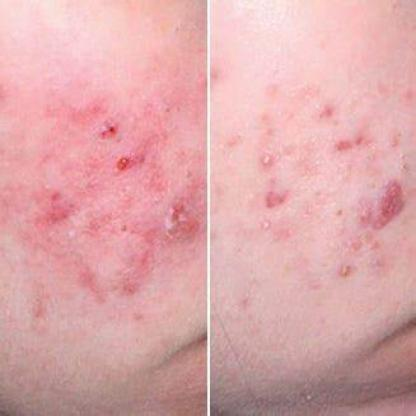Acne: (131, 166, 202, 240), (88, 107, 143, 188), (23, 188, 82, 232), (350, 188, 394, 236)
